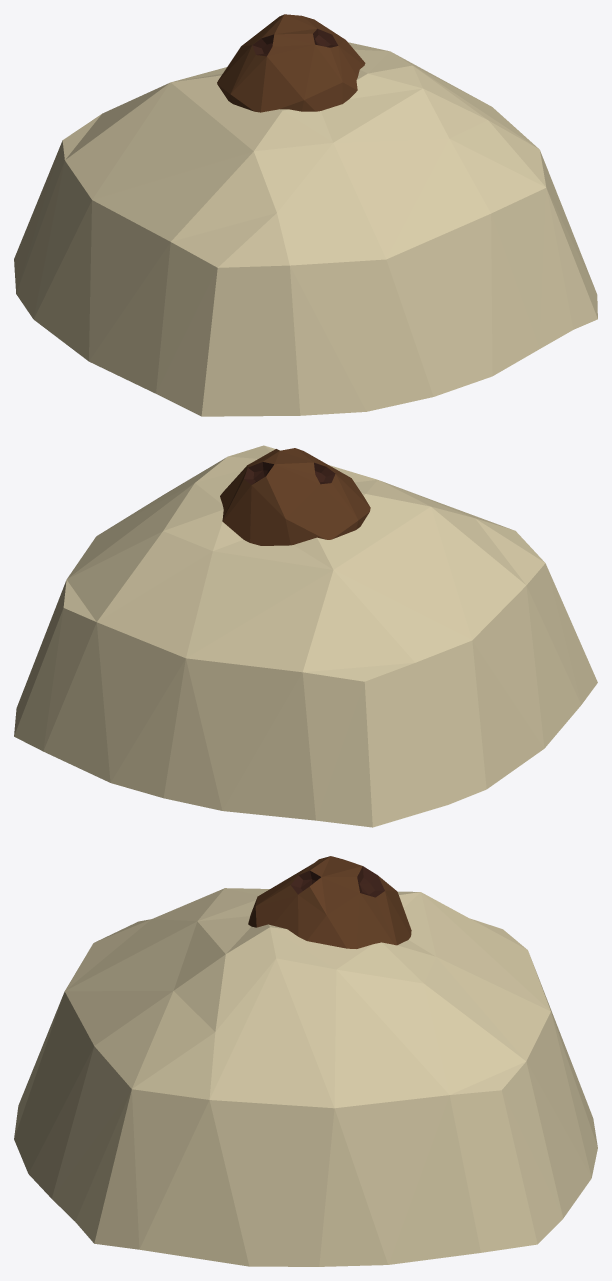
File: PalmG0.fbx
3 views of the same model, one above another, from view 1: azimuth 30°, elevation 25°; view 2: azimuth 150°, elevation 25°; view 3: azimuth 270°, elevation 25° (orthographic). The views are drawn at different scales.
Visible parts, largest first — view 1: Icosphere.004; view 2: Icosphere.004; view 3: Icosphere.004.
Boxes of the visible parts, box(x1,y1,x2,y2) form: Icosphere.004: box(14, 14, 597, 416); Icosphere.004: box(14, 445, 597, 827); Icosphere.004: box(14, 856, 597, 1266).
Bounding box in the file's own units: 117 × 116 × 62.05.
